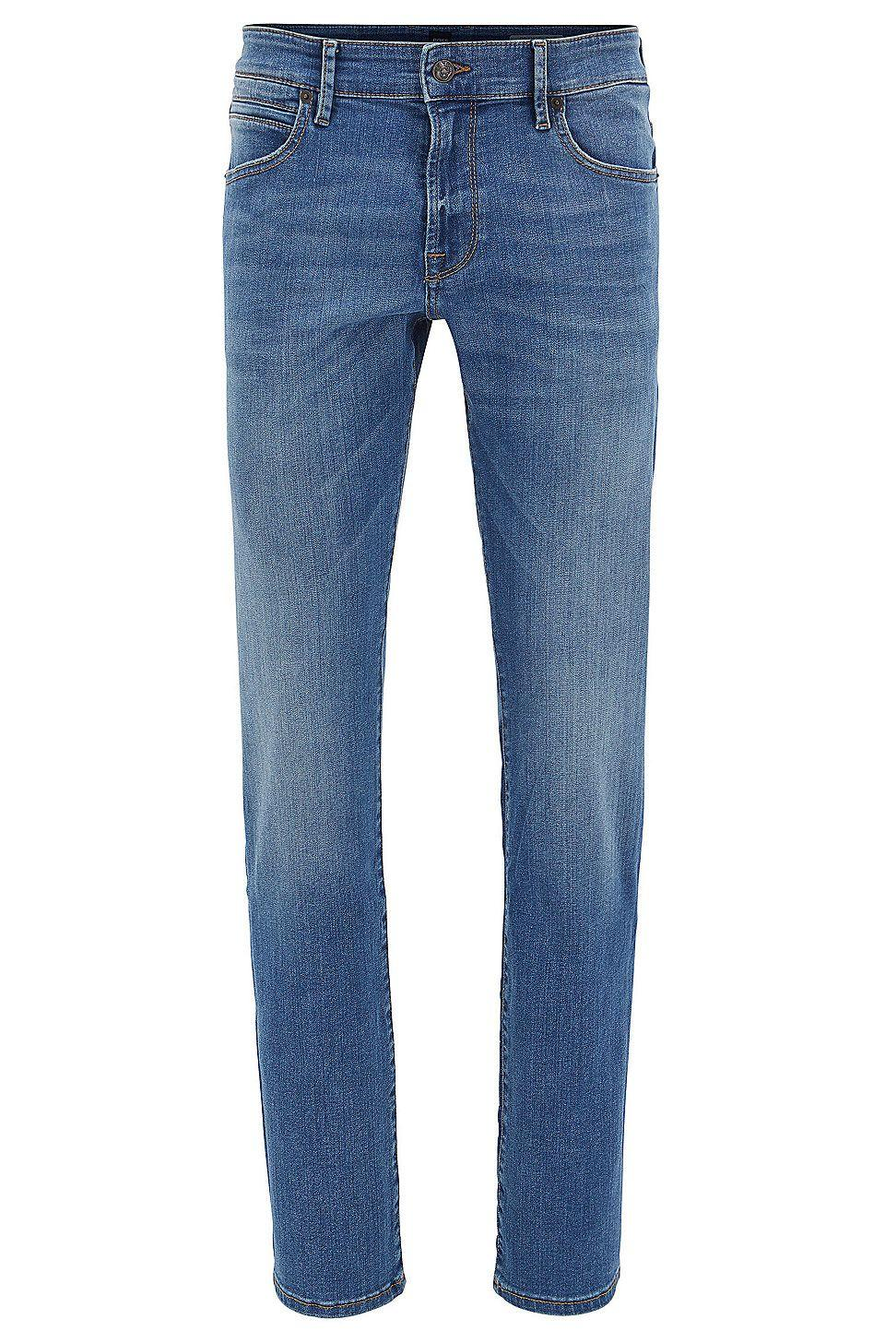jeans: (208, 0, 674, 1343)
